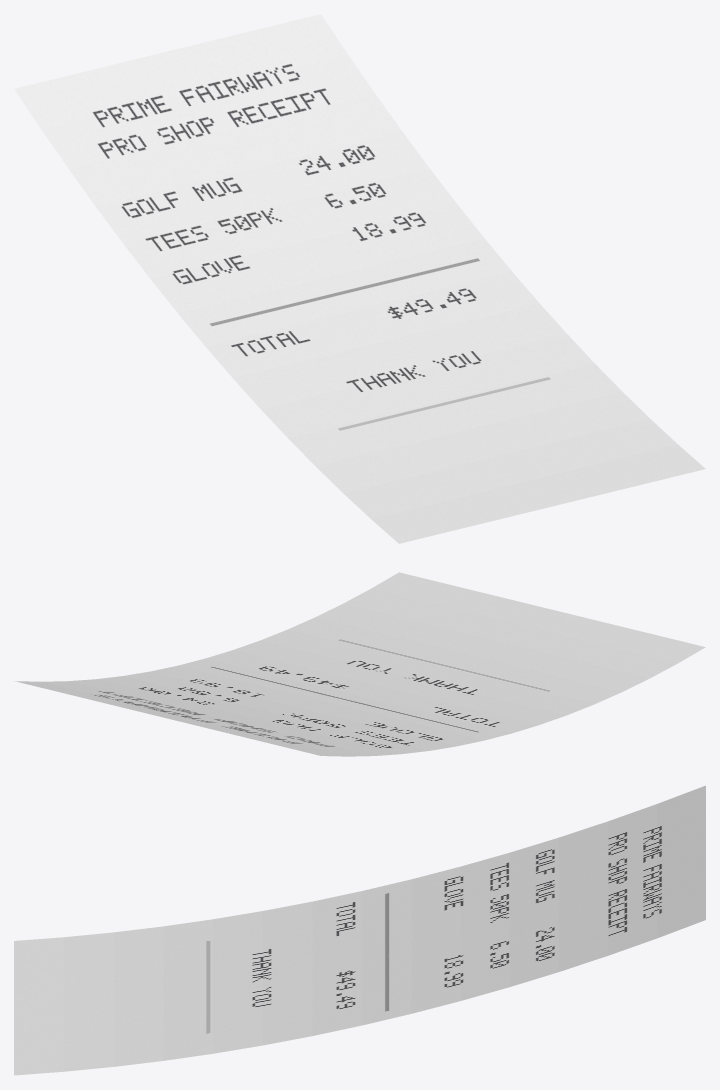
File: loose_receipt.glb
3 renders of one model, top to bottom at view 1: azimuth 30°, elevation 25°; view 2: azimuth 150°, elevation 25°; view 3: azimuth 270°, elevation 25°, orthographic. The views are drawn at different scales.
Visible parts, largest first — view 1: Receipt_Strip; view 2: Receipt_Strip; view 3: Receipt_Strip.
Part boxes in pixels (x1,y1,x2,y2): Receipt_Strip: (14,14,705,543); Receipt_Strip: (14,572,705,756); Receipt_Strip: (14,785,705,1075).
Bounding box in the file's own units: 0.068 × 0.0366 × 0.1478.
1 material, 1 textured.
